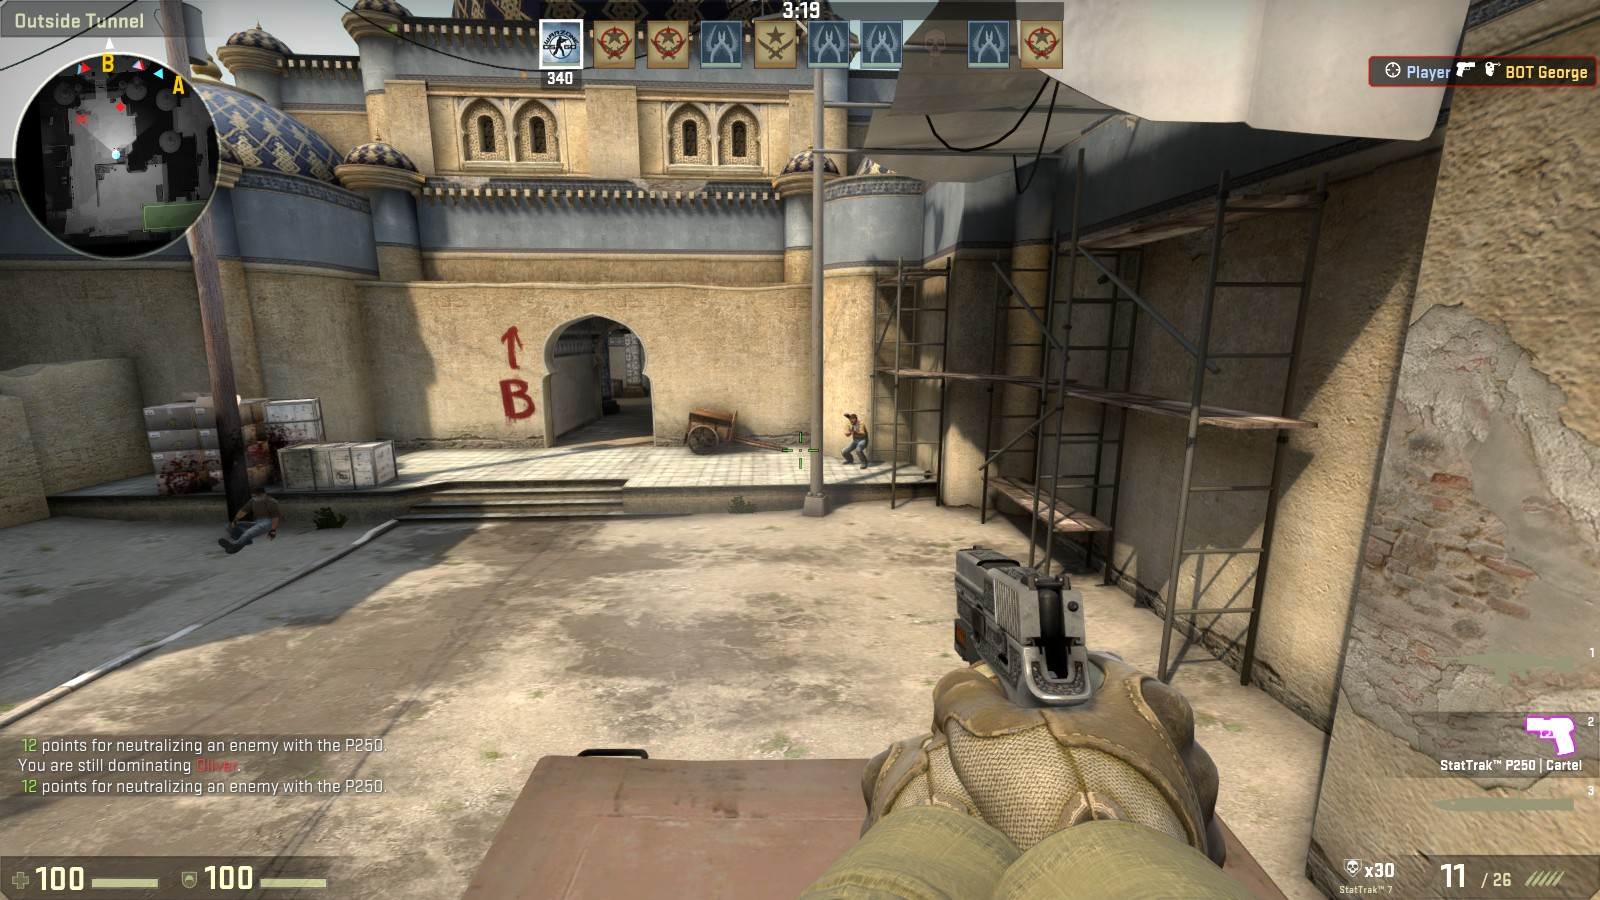t: (838, 412, 871, 468)
th: (846, 412, 862, 425)
